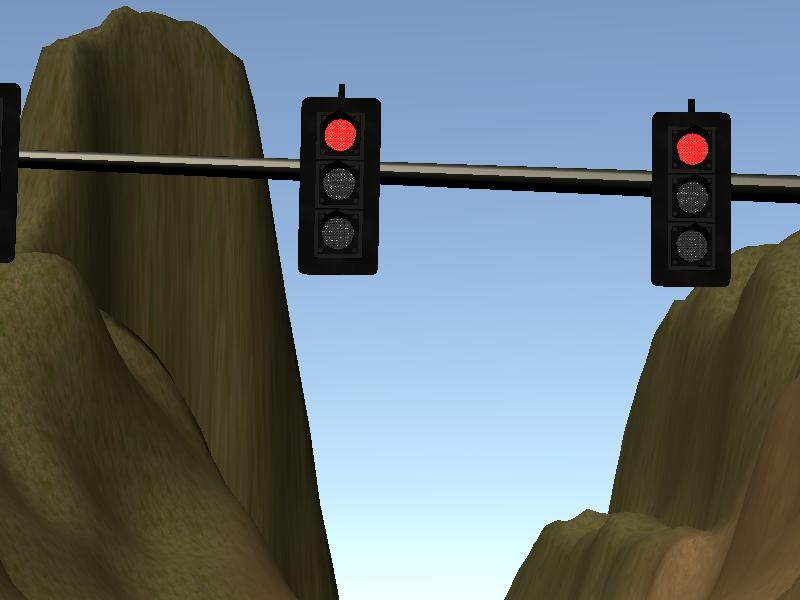RED: (298, 96, 381, 275), (651, 112, 732, 285)
